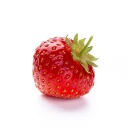strawberry: (31, 33, 99, 100)
